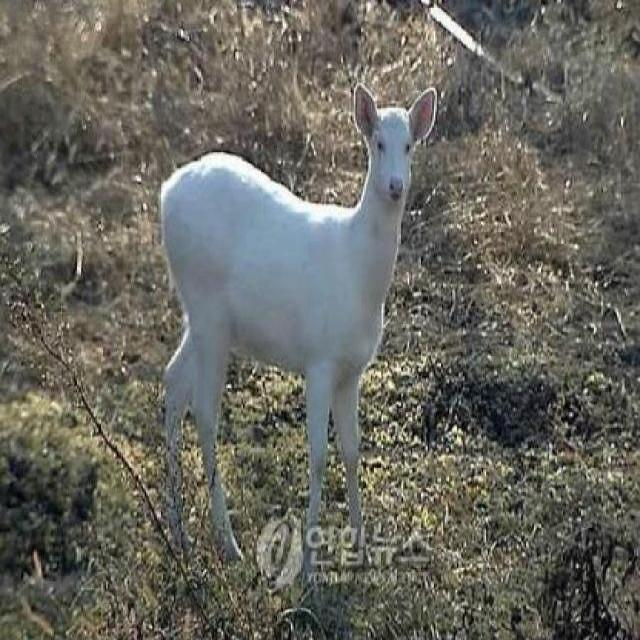deer: (128, 71, 452, 517)
